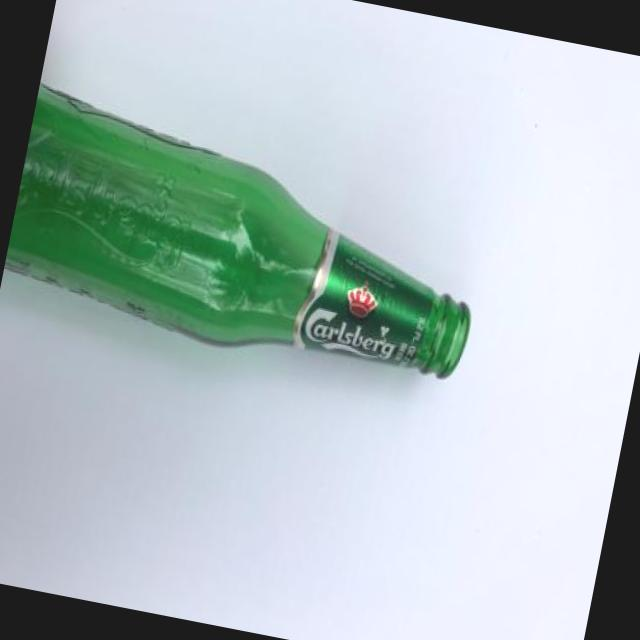chai_thuy_tinh: (5, 85, 470, 378)
